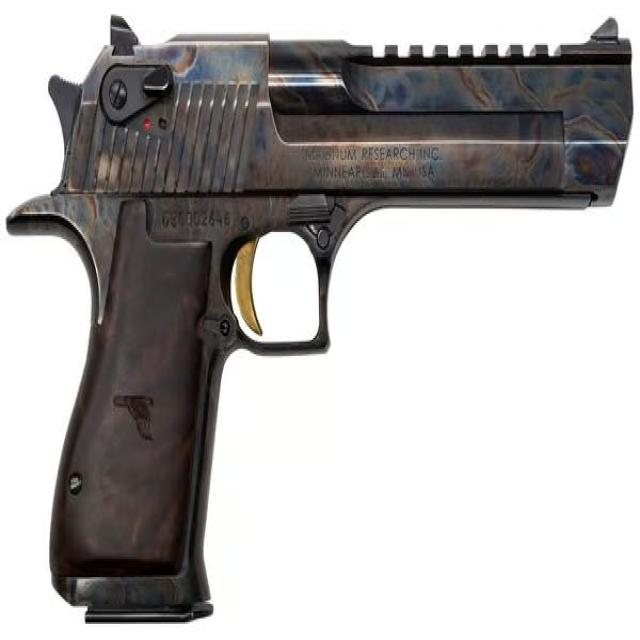gun: (4, 16, 637, 627)
